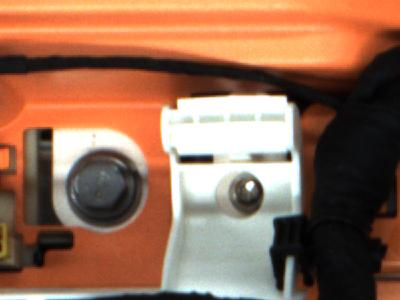nut_b: (62, 141, 149, 226)
